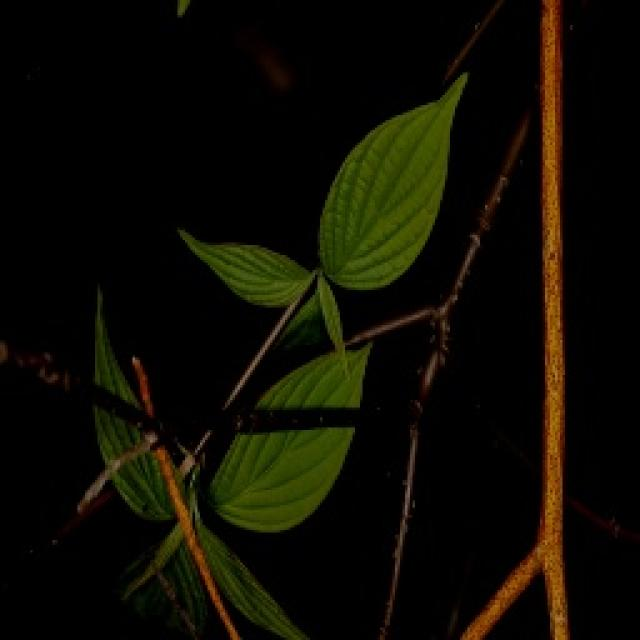Golden_canker: (418, 4, 610, 640), (92, 336, 252, 640)
